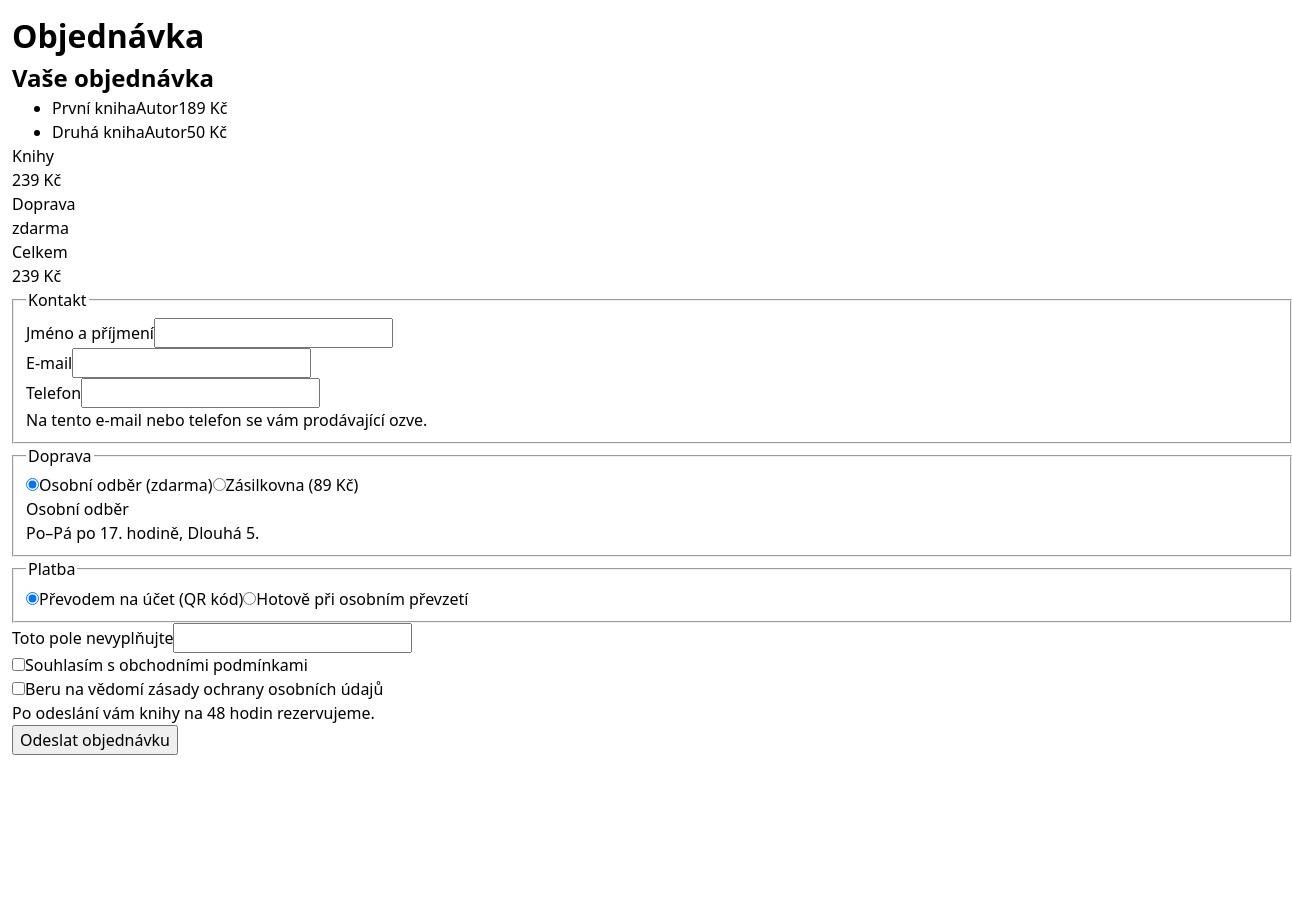
Test: CheckoutForm › shows the pickup instructions for personal pickup
Check: the text "První kniha" is shown, box [52,97,136,119]
Check: the text "Po–Pá po 17. hodině, Dlouhá 5." is shown, box [26,522,259,544]
Click the radio button labelled "Zásilkovna (89 Kč)" at (219,485), box [212,478,226,491]
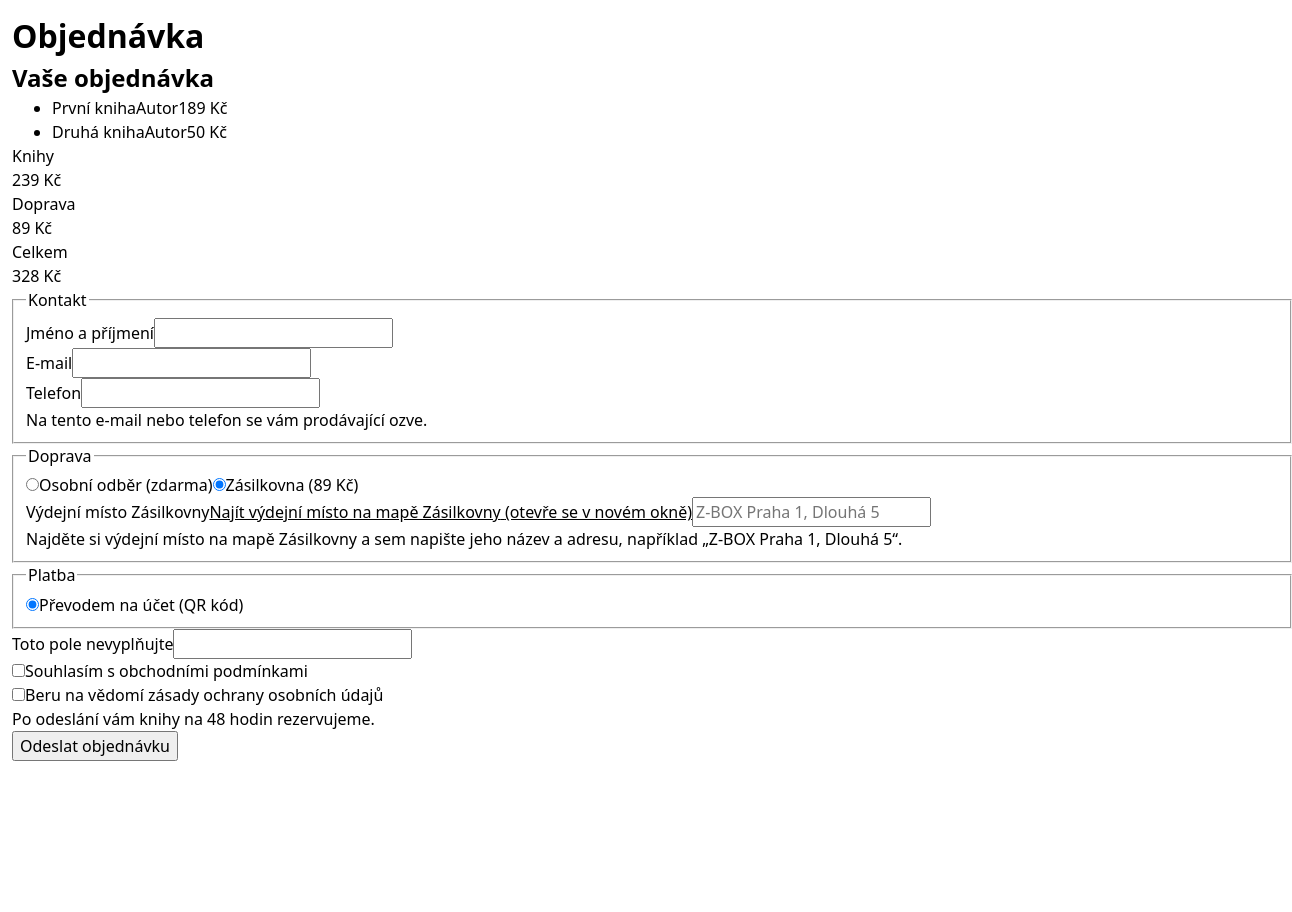
Check: the text "Po–Pá po 17. hodině, Dlouhá 5." is gone
